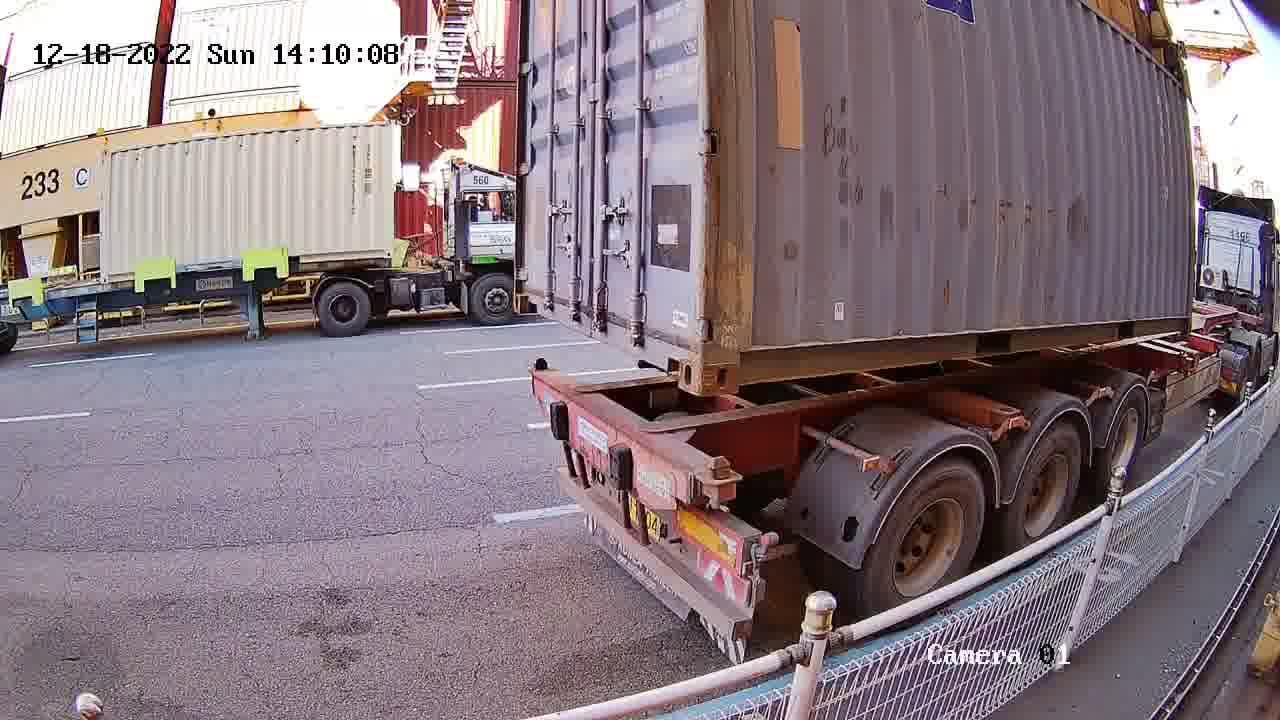Chassis: (531, 368, 736, 509)
Cone: (697, 453, 736, 516), (527, 352, 546, 390)
Hole_L: (701, 317, 758, 398), (511, 264, 553, 319)
Hole_R: (648, 309, 704, 399)
Tire: (870, 469, 987, 611), (1011, 428, 1084, 547), (1102, 388, 1147, 471)
